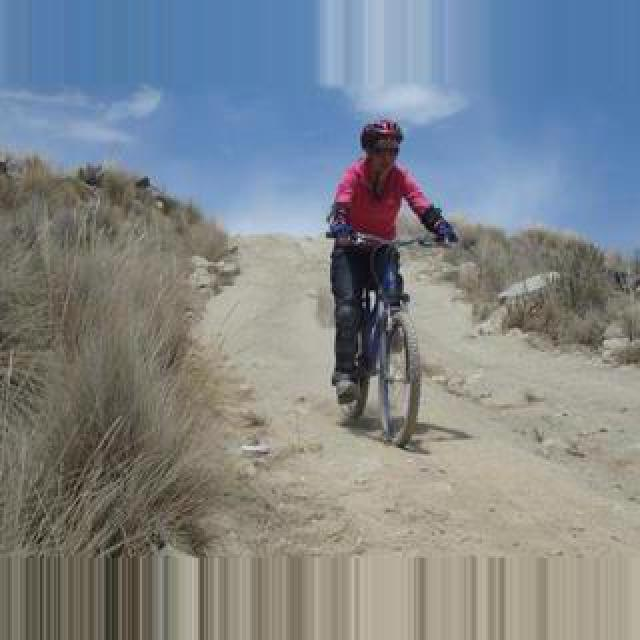MC-Bike: (324, 110, 462, 434)
Person: (332, 236, 424, 450)
